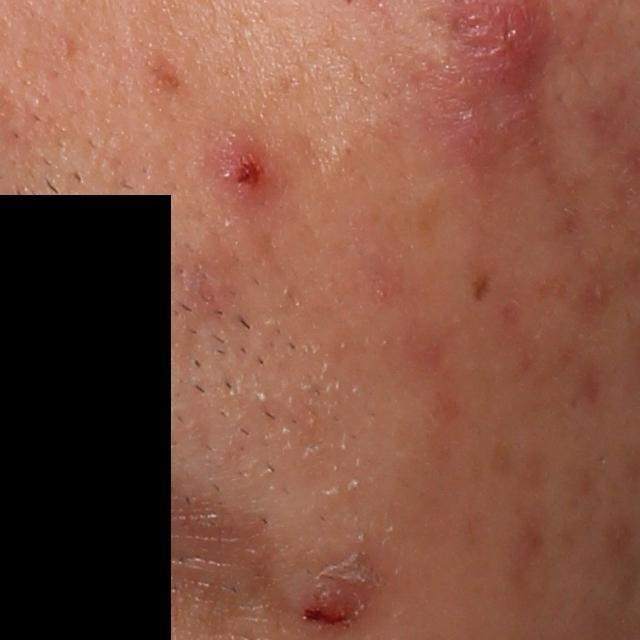nevus: (468, 266, 494, 305)
papule: (214, 134, 282, 231)
